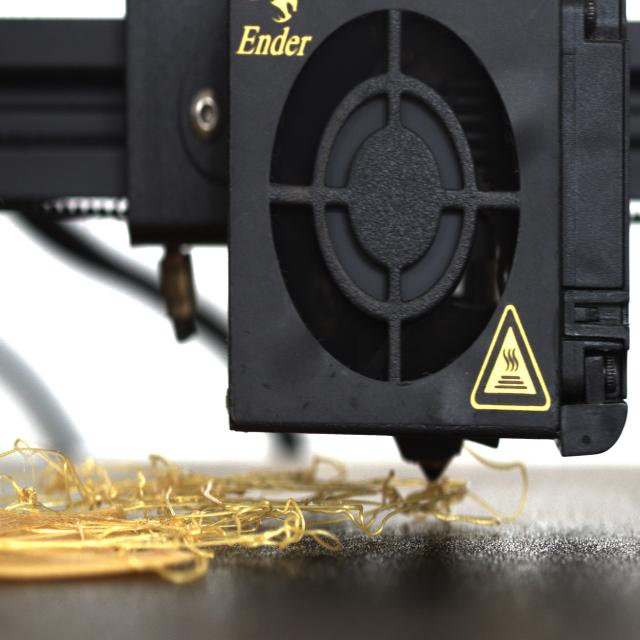Without deffect: (256, 14, 536, 403)
